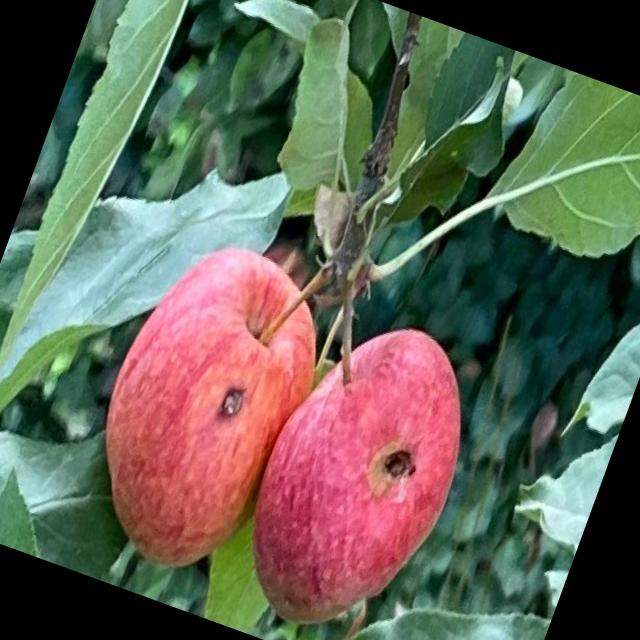Apples: (64, 224, 348, 590), (219, 301, 495, 639)
